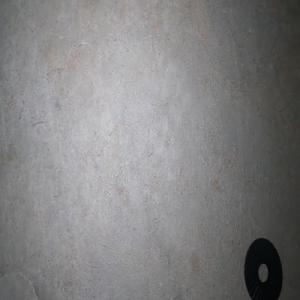Washer: (243, 237, 282, 300)
